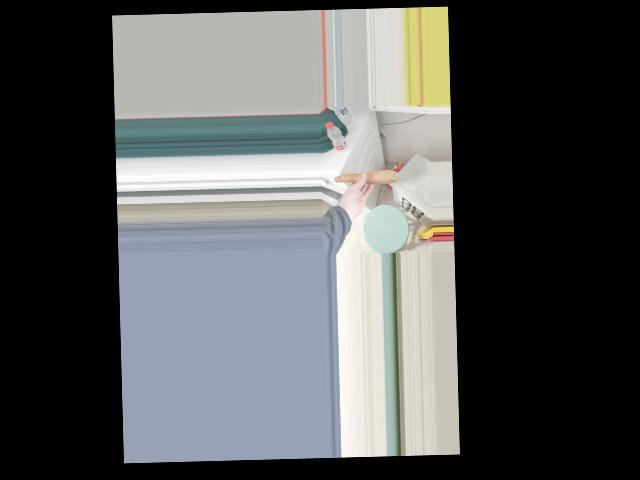sweet_potato: (333, 168, 397, 190)
